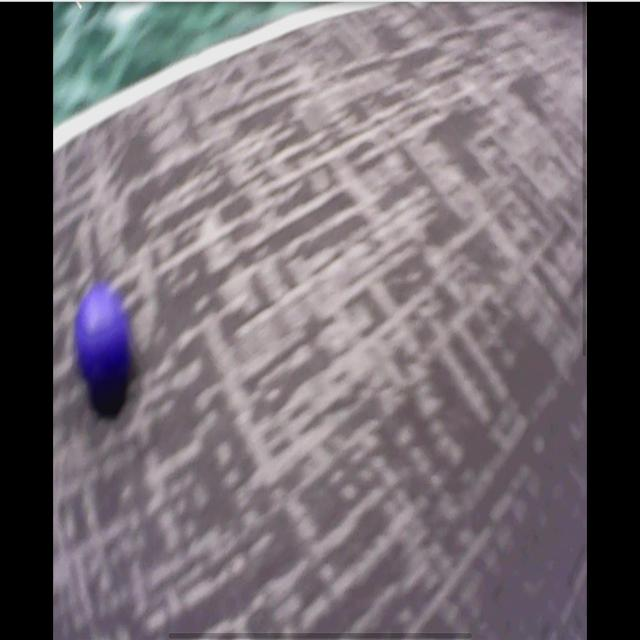ball: (75, 295, 124, 379)
